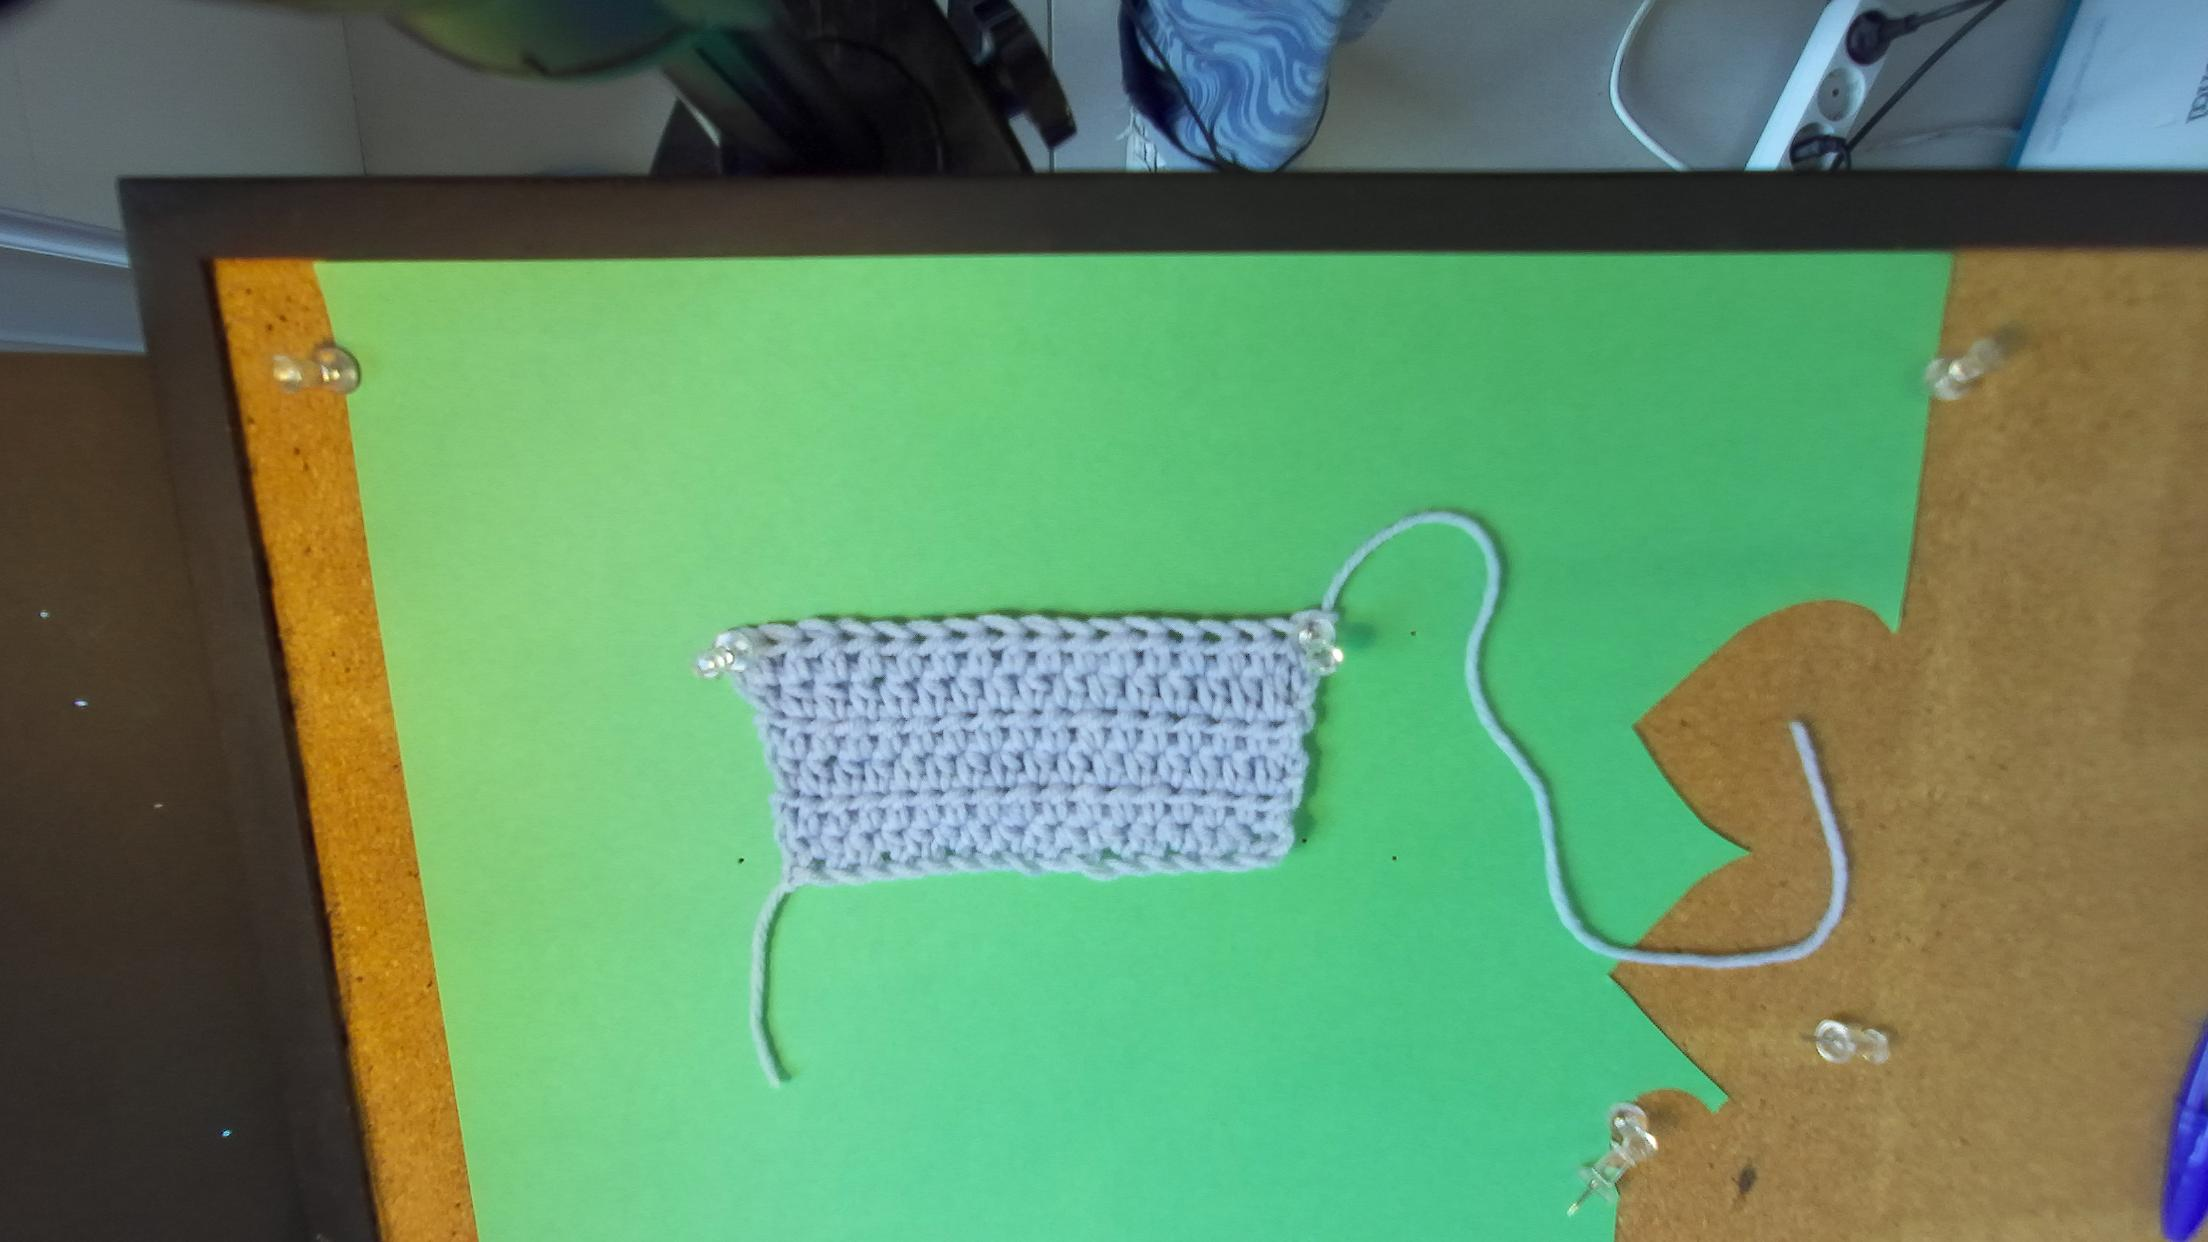hole: (837, 628, 857, 645), (1201, 629, 1222, 645), (760, 635, 783, 649), (798, 628, 816, 645), (1166, 629, 1184, 643), (875, 632, 895, 645), (1240, 628, 1254, 643), (1271, 629, 1287, 641), (987, 628, 1005, 638), (1025, 629, 1043, 640), (911, 634, 928, 645), (949, 631, 968, 640), (1096, 629, 1110, 641), (1130, 628, 1148, 637), (1062, 631, 1077, 641)
swatch: (695, 614, 1335, 893)
